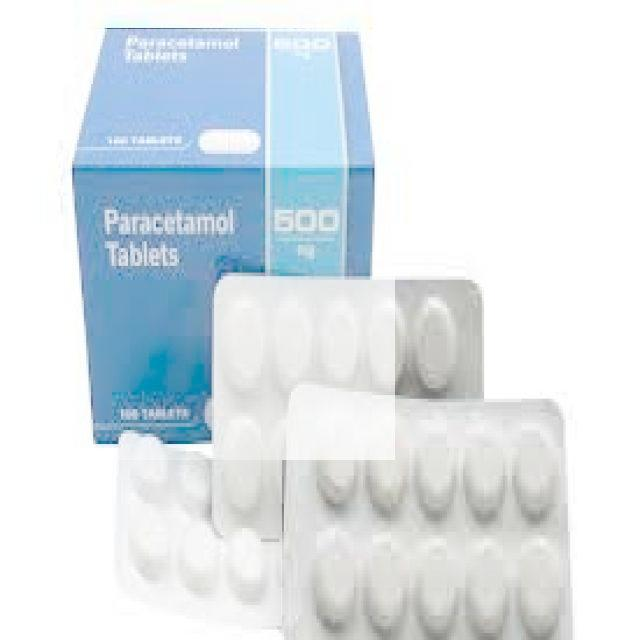authentic: (68, 29, 395, 460), (277, 370, 588, 640), (58, 15, 381, 273), (205, 261, 492, 541), (105, 420, 282, 626)
